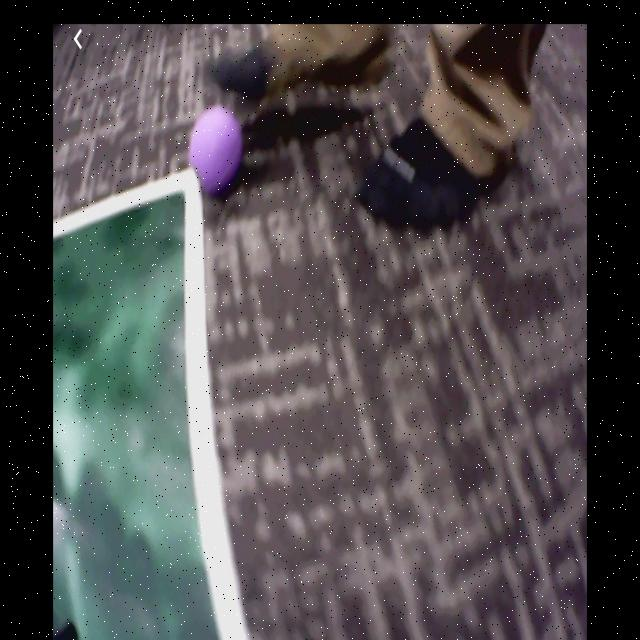ball: (193, 108, 241, 192)
